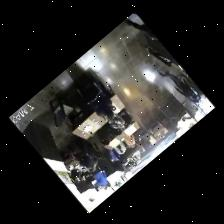person: (158, 70, 196, 98), (125, 19, 157, 39), (180, 73, 205, 97), (74, 152, 93, 171), (93, 166, 107, 188), (108, 113, 124, 130), (124, 134, 135, 146), (70, 168, 80, 181), (130, 156, 136, 165)
